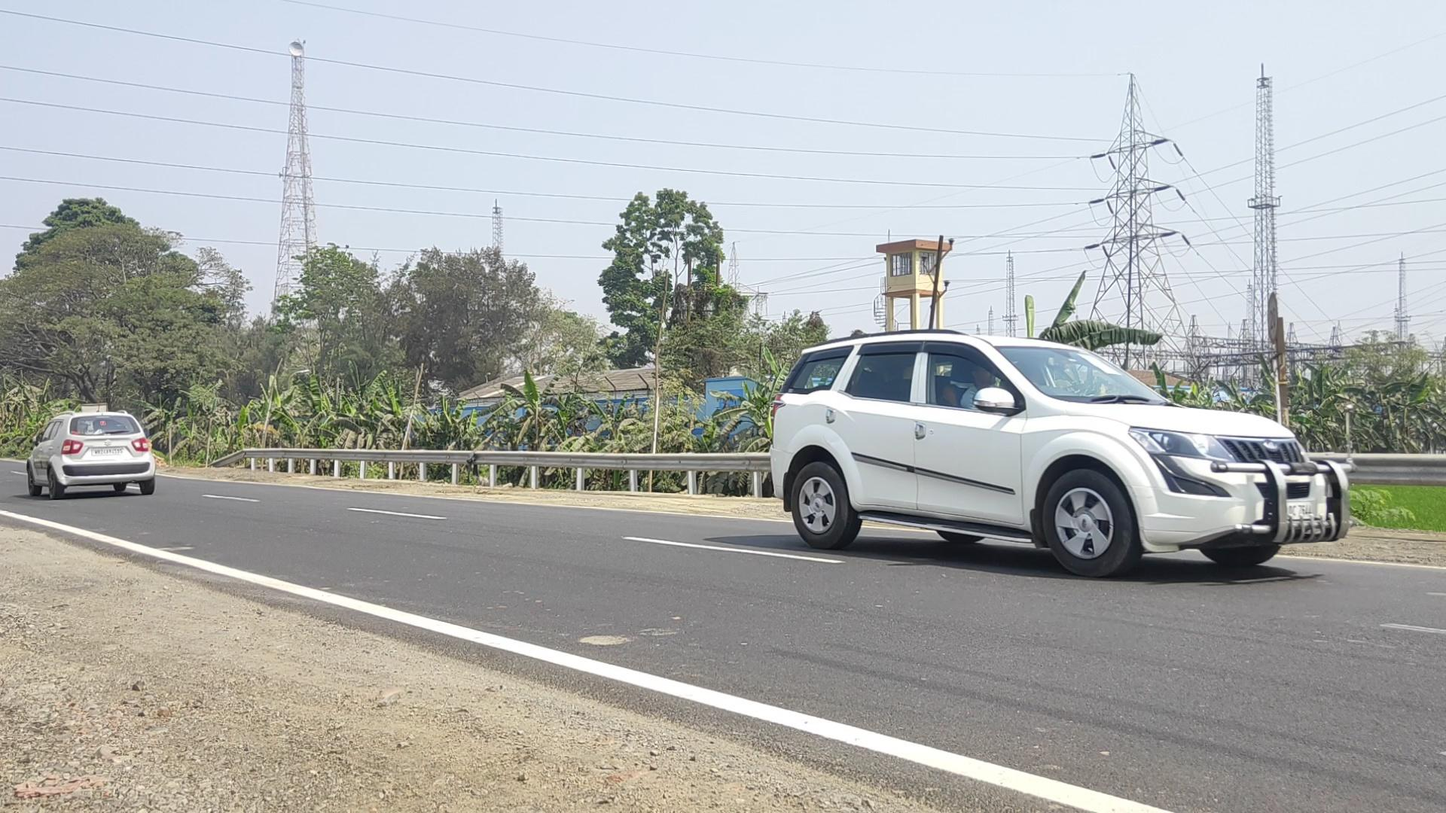car: (770, 329, 1358, 578), (27, 410, 155, 501)
